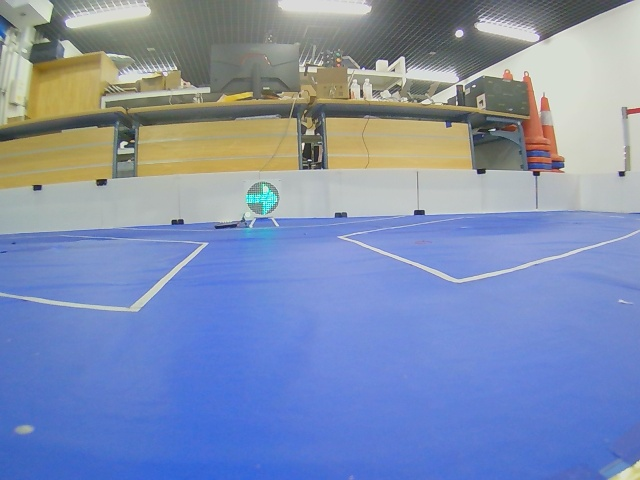right_green: (245, 181, 280, 215)
